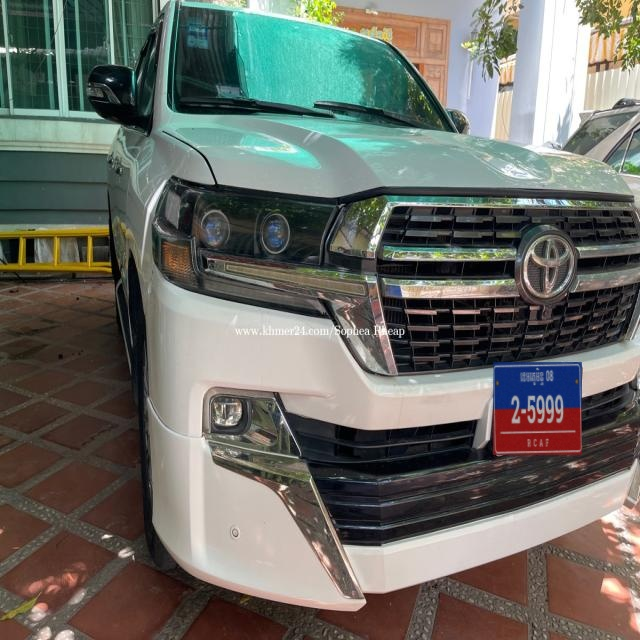Plate Number: (493, 362, 582, 456)
